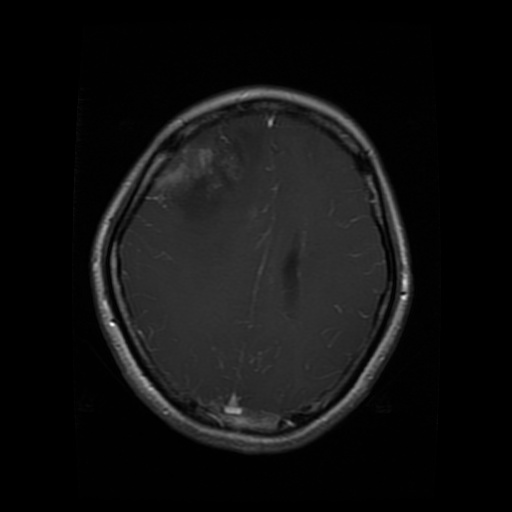glioma: (147, 121, 255, 224)
